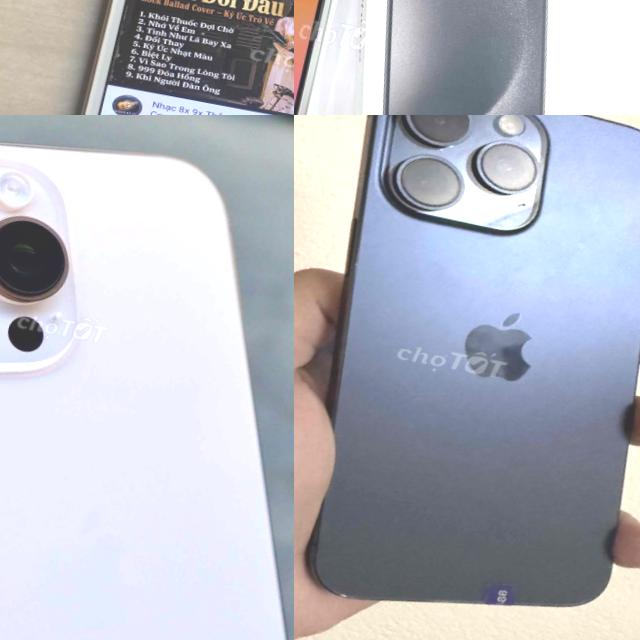gen_15: (294, 115, 640, 640), (294, 0, 365, 115)
gen_16: (0, 144, 286, 640)
gen_6: (81, 0, 294, 115)
physical_damage: (474, 192, 554, 247)
scratch: (328, 582, 354, 602)
